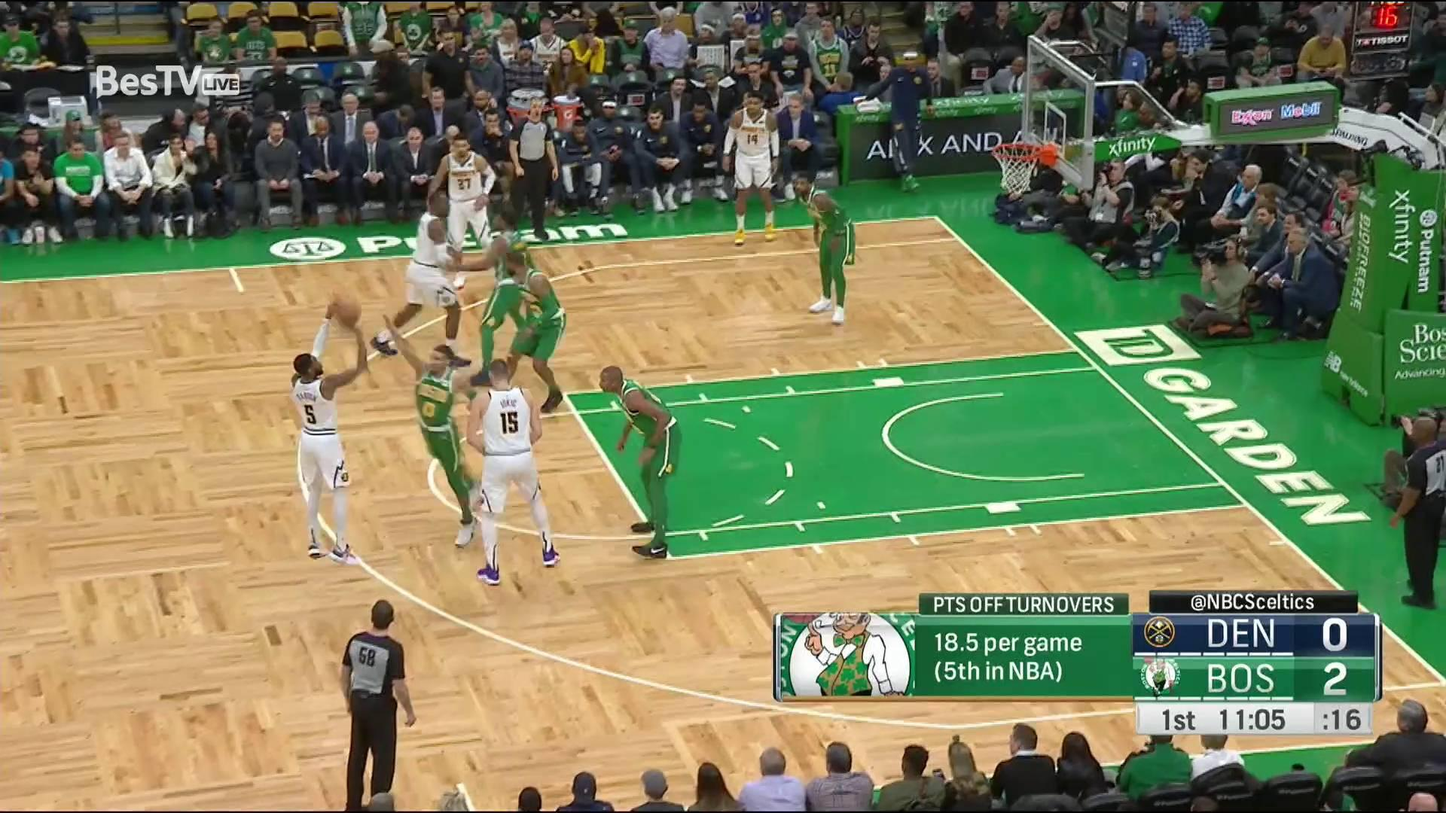basketball: (330, 296, 363, 329)
